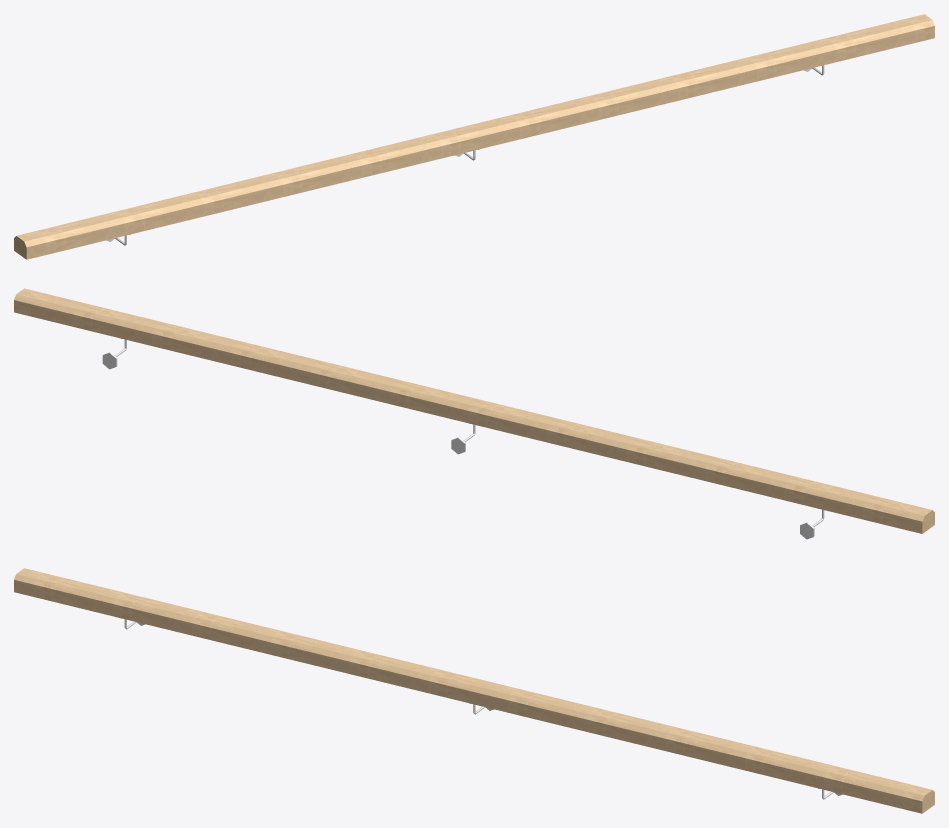
The model's file is sweethome3d-contributions-wall-handrail-494.glb.
The picture shows the model from 3 angles, top to bottom: view 1: azimuth 30°, elevation 25°; view 2: azimuth 150°, elevation 25°; view 3: azimuth 330°, elevation 25°; orthographic projection.
Visible parts, largest first — view 1: 1_1; view 2: 1_1, 2_2; view 3: 1_1.
Boxes of the visible parts, x1,y1,x2,y2 form: 1_1: (14, 14, 934, 259); 1_1: (14, 288, 934, 533); 2_2: (102, 338, 824, 539); 1_1: (14, 568, 934, 813).
Bounding box in the file's own units: 230 × 9.77 × 9.94.
Materials: 2 (1 with a texture image).
